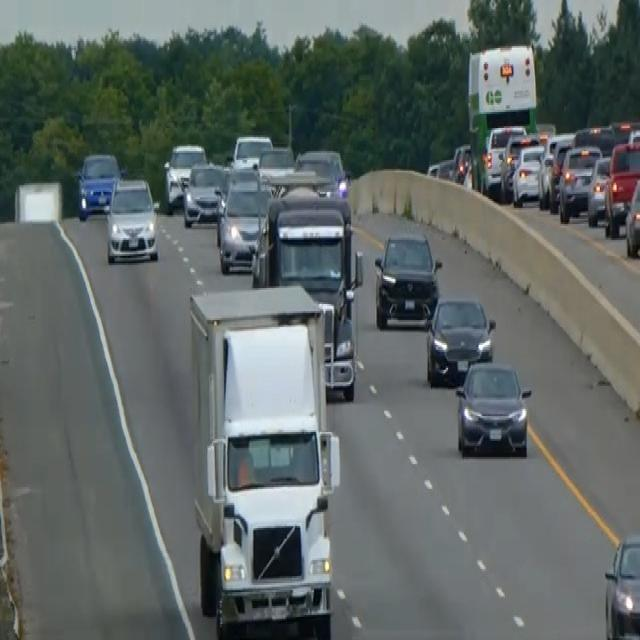car: (454, 357, 532, 457), (373, 227, 441, 329), (425, 293, 496, 386), (215, 170, 271, 274), (105, 174, 159, 263), (603, 532, 639, 638), (603, 137, 639, 236), (558, 140, 601, 222), (162, 140, 206, 212), (76, 149, 121, 219), (482, 123, 525, 192), (294, 146, 349, 199), (182, 160, 226, 226), (511, 140, 547, 207), (547, 138, 573, 212), (257, 142, 295, 192), (586, 153, 611, 226), (231, 131, 272, 169), (573, 123, 617, 158), (624, 172, 639, 256), (451, 142, 472, 183)
lorry: (187, 281, 341, 633), (251, 190, 363, 402)
